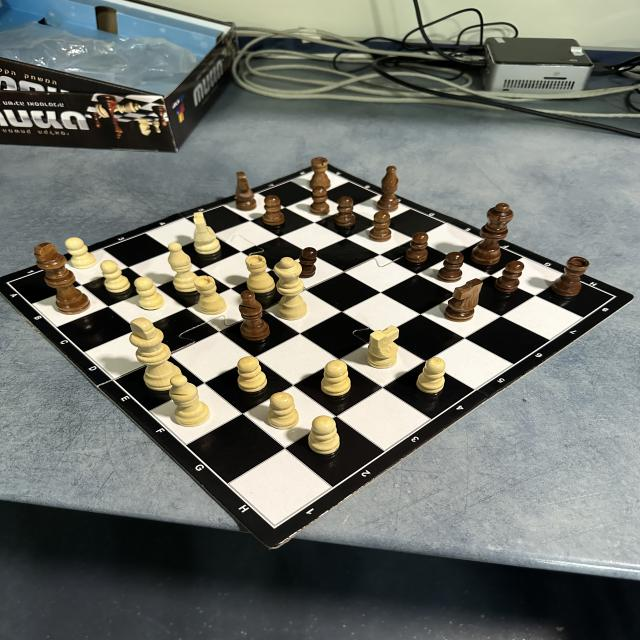Black-Bishop: (239, 291, 269, 340), (378, 166, 398, 212)
Black-King: (35, 242, 90, 314)
Black-Knight: (445, 278, 484, 322), (234, 171, 256, 210)
Black-Pawn: (495, 260, 524, 292), (438, 251, 465, 282), (408, 231, 430, 263), (369, 212, 391, 242), (297, 248, 318, 278), (264, 196, 284, 226), (335, 197, 355, 226), (309, 187, 328, 216)
Black-Queen: (472, 203, 512, 264)
Black-Rook: (554, 256, 590, 296), (311, 156, 330, 189)
White-Bishop: (170, 374, 210, 426), (167, 243, 200, 292)
White-King: (130, 317, 182, 390)
White-Knight: (368, 325, 400, 369), (193, 212, 221, 254)
White-Pawn: (268, 392, 300, 430), (308, 416, 339, 454), (237, 357, 267, 392), (416, 357, 445, 393), (321, 360, 349, 396), (101, 259, 130, 293), (135, 277, 164, 310), (67, 237, 95, 270)
White-Queen: (276, 258, 306, 320)
White-Rook: (194, 275, 226, 315), (246, 255, 275, 293)
